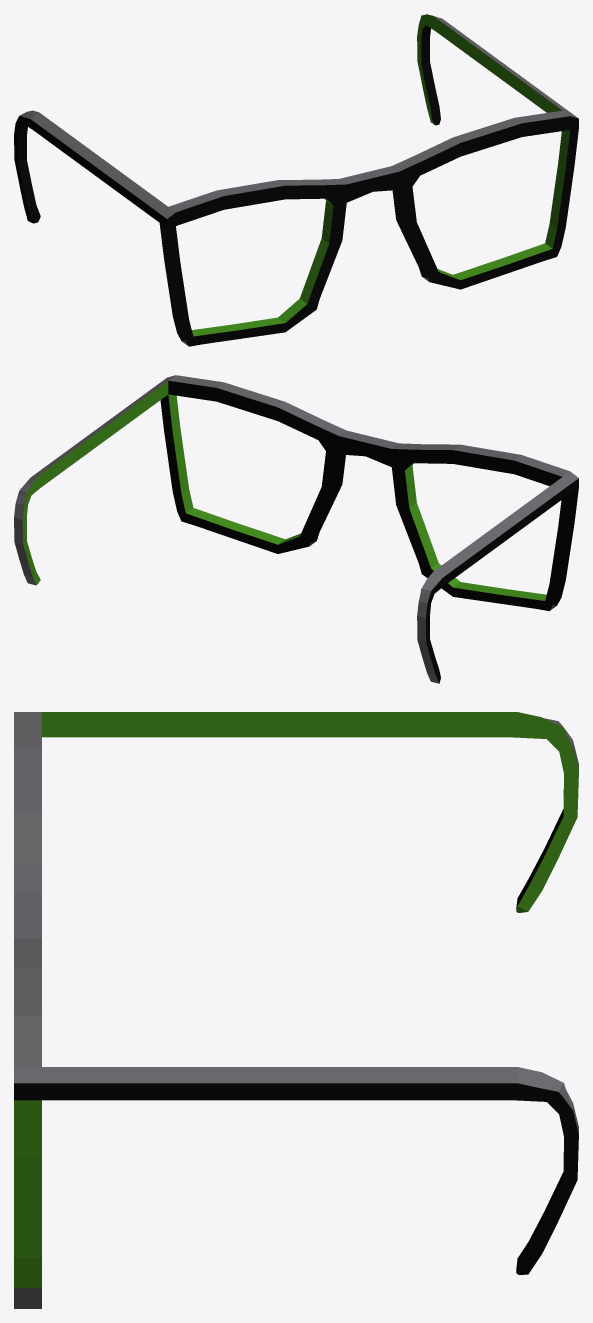
File: glasses.glb
3 views of the same model, one above another, from view 1: azimuth 30°, elevation 25°; view 2: azimuth 150°, elevation 25°; view 3: azimuth 270°, elevation 25° (orthographic). The views are drawn at different scales.
Visible parts, largest first — view 1: brille_0; view 2: brille_0; view 3: brille_0.
Boxes of the visible parts, bbox=[...] form: brille_0: bbox=[14, 14, 578, 346]; brille_0: bbox=[14, 375, 578, 683]; brille_0: bbox=[14, 712, 578, 1308].
Bounding box in the file's own units: 0.94 × 0.33 × 0.6054.
